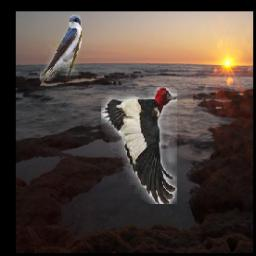Swallow: (41, 15, 83, 82)
Woodpecker: (101, 87, 177, 204)
